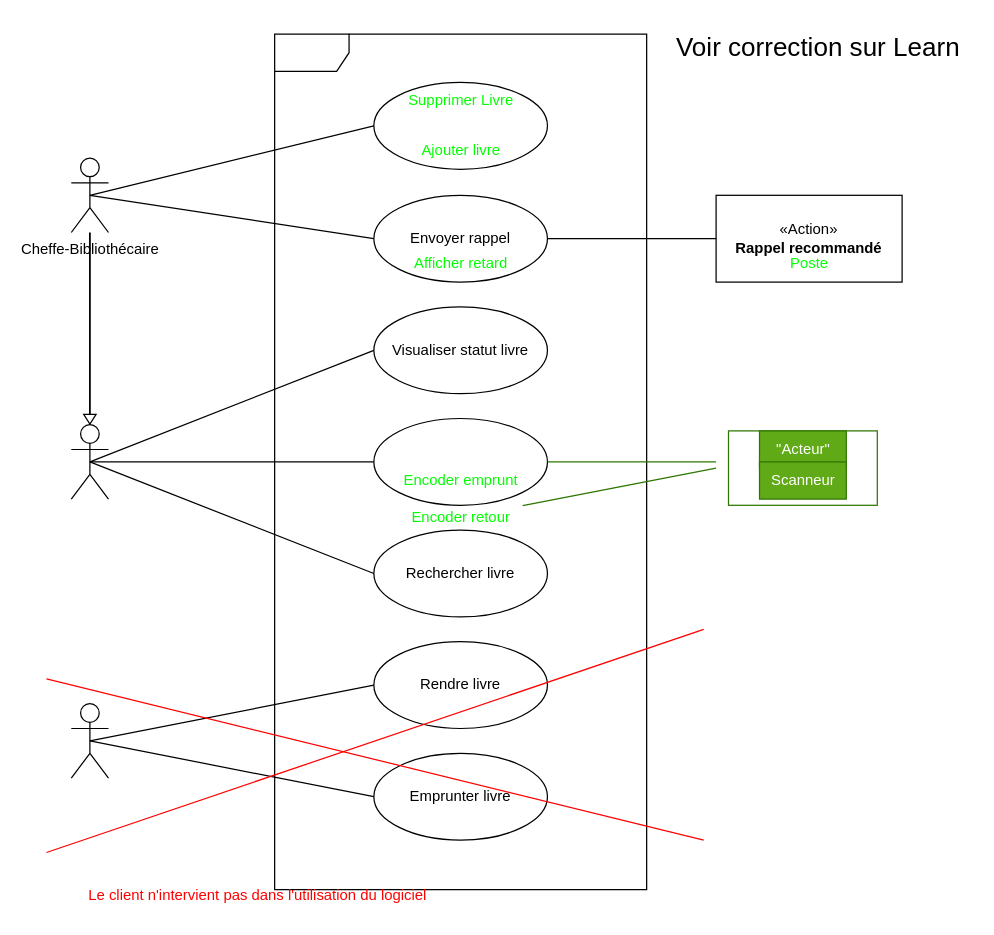
The diagram is 994 pixels wide and 935 high, and some of its shapes have lost their labels. Here are the shapes that lost their labels. From the top down, the box of each, then its label:
(373, 81, 547, 169): Gérer livres
(70, 423, 108, 499): Bibliothécaire
(373, 417, 547, 505): Scanner livre
(273, 33, 647, 890): Biblioth.
(70, 702, 108, 778): Client
